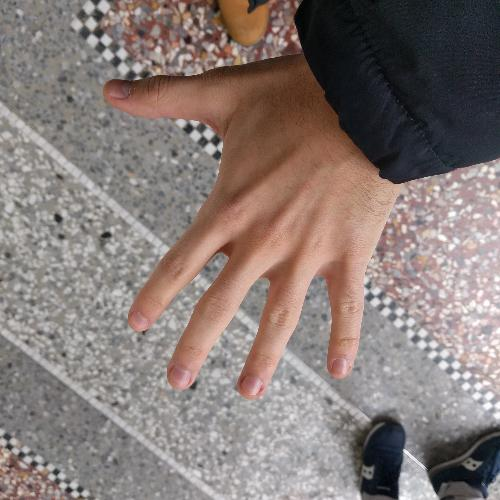paper: (95, 48, 414, 404)
